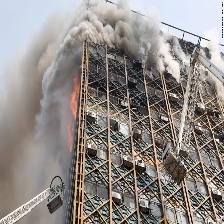fire: (68, 75, 80, 153)
smoke: (1, 4, 193, 100), (3, 44, 63, 224)
